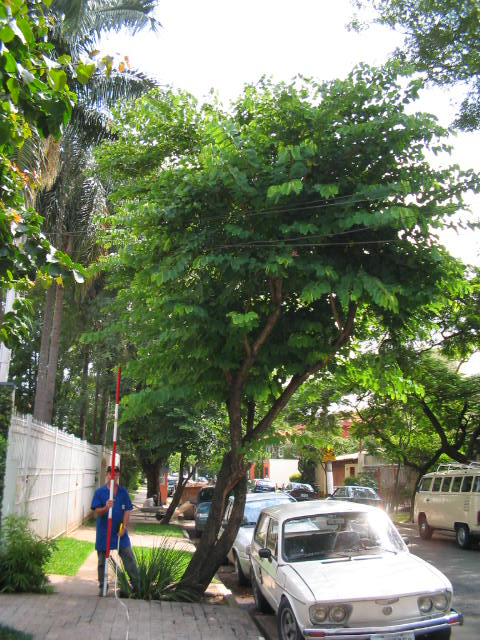crown: (97, 64, 469, 427)
stem: (172, 453, 252, 601)
stick: (94, 368, 125, 594)
tree: (94, 61, 472, 605)
